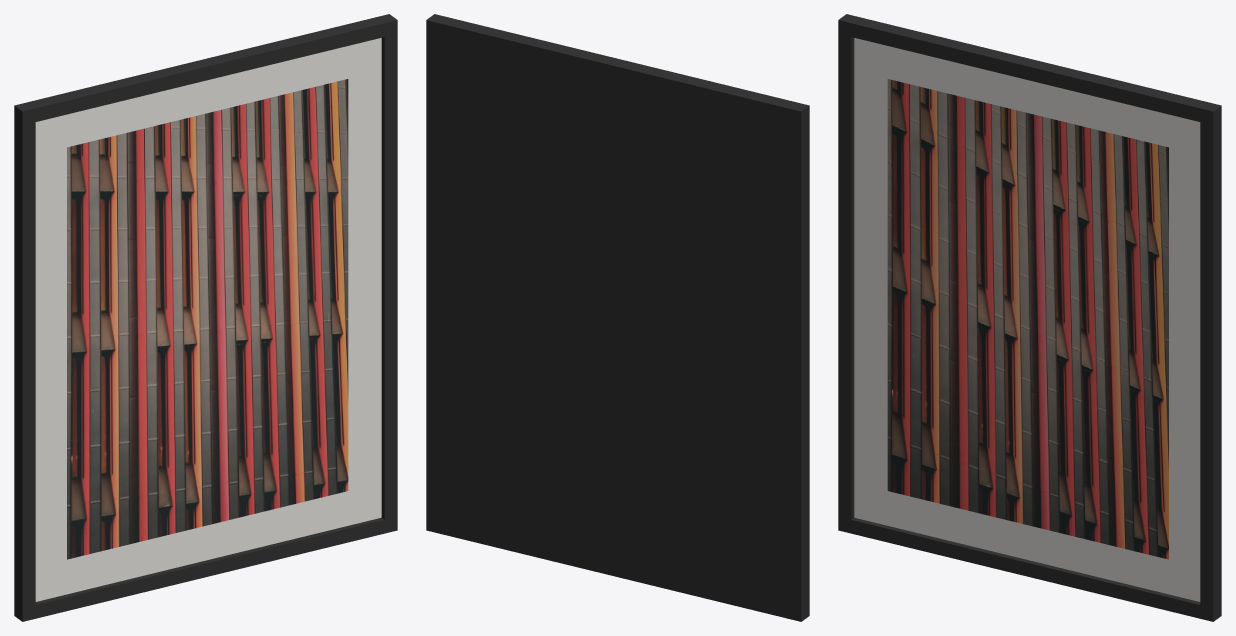
The model's file is fasaden-60.gltf.
3 views of the same model, side by side, from view 1: azimuth 30°, elevation 25°; view 2: azimuth 150°, elevation 25°; view 3: azimuth 330°, elevation 25° (orthographic).
Parts seen in each view (by area): view 1: tavla; view 2: tavla; view 3: tavla.
Boxes of the visible parts, box(x1,y1,x2,y2) form: tavla: box(14, 14, 397, 621); tavla: box(426, 14, 809, 621); tavla: box(838, 14, 1221, 621).
Bounding box in the file's own units: 0.5715 × 0.7429 × 0.022.
3 materials, 1 textured.
